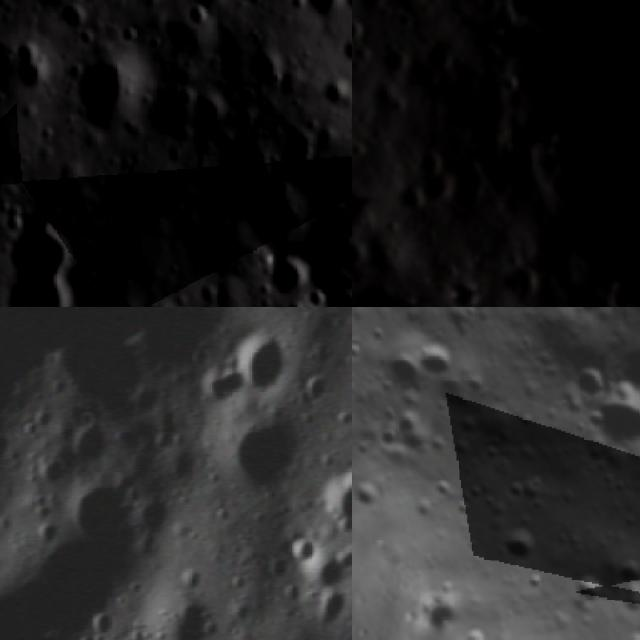crater: (357, 0, 640, 307), (65, 38, 149, 138), (0, 210, 86, 307), (569, 362, 640, 464), (234, 180, 312, 252), (233, 419, 300, 492), (552, 341, 619, 408), (485, 508, 551, 575), (214, 128, 281, 193), (64, 492, 143, 546), (236, 333, 288, 404), (406, 334, 464, 392), (560, 557, 613, 610), (267, 250, 311, 302), (280, 532, 322, 584), (404, 135, 451, 181), (76, 422, 106, 485), (53, 0, 98, 39), (313, 76, 352, 119), (286, 0, 352, 23), (552, 307, 615, 328), (180, 0, 220, 30), (332, 470, 352, 529), (331, 30, 352, 78), (352, 10, 371, 59), (85, 615, 116, 640)
